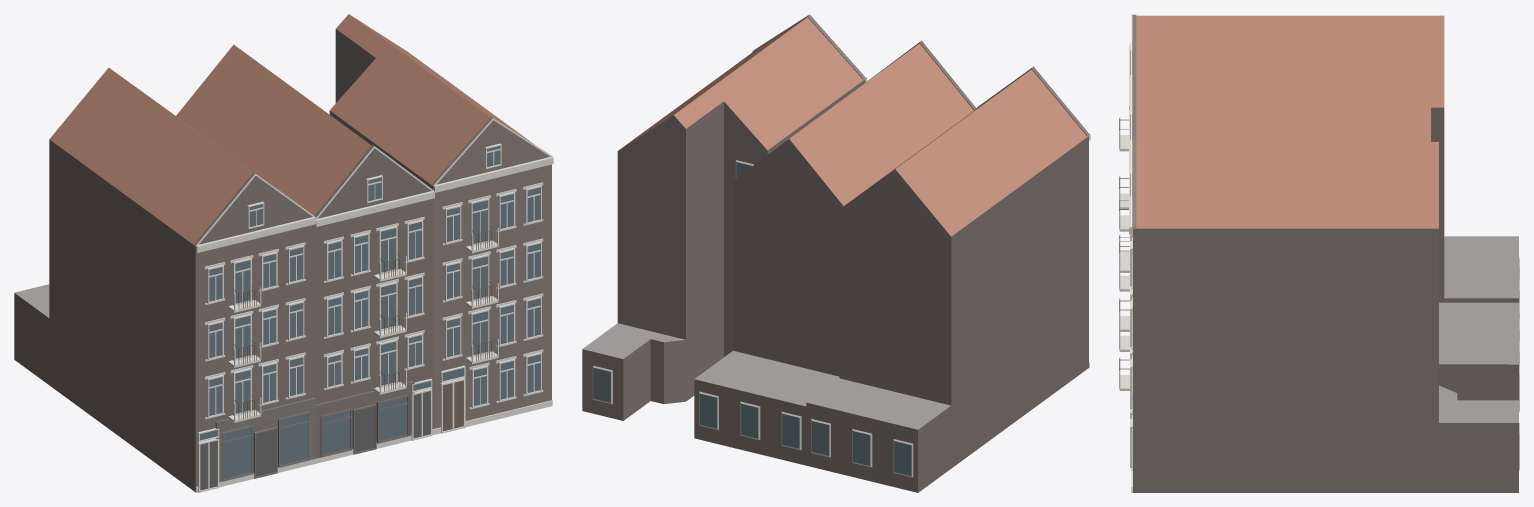
The model's file is chunk-face-pretorius-72-120-r1.glb.
The picture shows the model from 3 angles, left to right: view 1: azimuth 30°, elevation 25°; view 2: azimuth 150°, elevation 25°; view 3: azimuth 270°, elevation 25°; orthographic projection. The views are drawn at different scales.
Visible parts, largest first — view 1: face-pretorius-72-120-r1; view 2: face-pretorius-72-120-r1; view 3: face-pretorius-72-120-r1.
Part boxes in pixels (left/top/right/bottom): face-pretorius-72-120-r1: left=14, top=14, right=553, bottom=492; face-pretorius-72-120-r1: left=582, top=14, right=1090, bottom=492; face-pretorius-72-120-r1: left=1119, top=14, right=1519, bottom=492.
Bounding box in the file's own units: 20.4 × 16.68 × 18.67.
